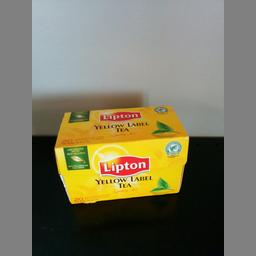tea: (52, 102, 188, 204)
